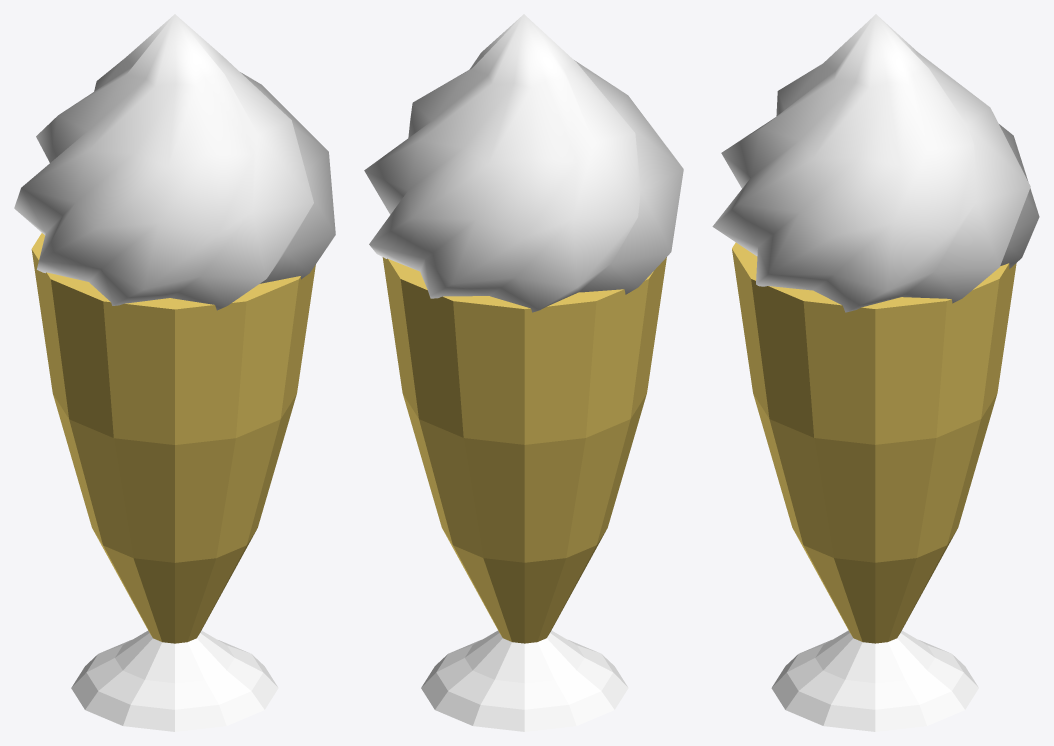
File: CandylandShakeVanilla.fbx
3 views of the same model, side by side, from view 1: azimuth 30°, elevation 25°; view 2: azimuth 150°, elevation 25°; view 3: azimuth 270°, elevation 25° (orthographic).
Parts seen in each view (by area): view 1: CandylandShakeVanilla; view 2: CandylandShakeVanilla; view 3: CandylandShakeVanilla.
Boxes of the visible parts, left/top/right/bottom form: CandylandShakeVanilla: left=14, top=14, right=335, bottom=731; CandylandShakeVanilla: left=364, top=14, right=683, bottom=731; CandylandShakeVanilla: left=712, top=14, right=1039, bottom=731.
Size of the model in its own units: 0.6089 by 1.38 by 0.6089.
